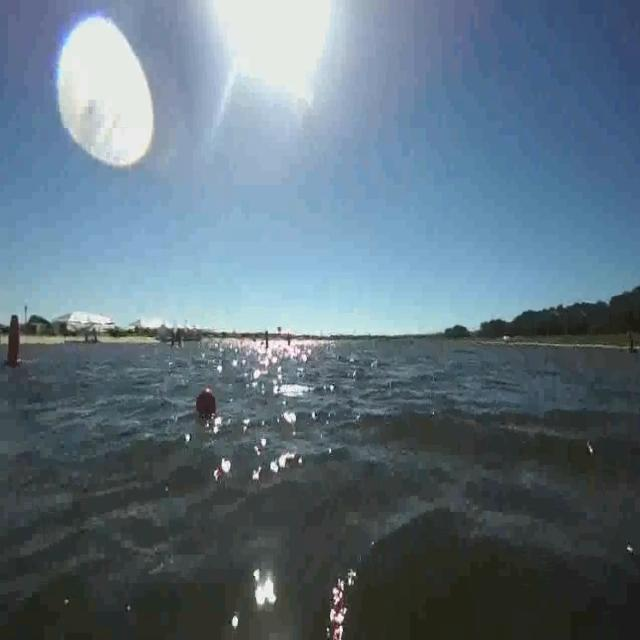red-buoy: (196, 387, 218, 419)
red-column-buoy: (3, 311, 24, 370)
